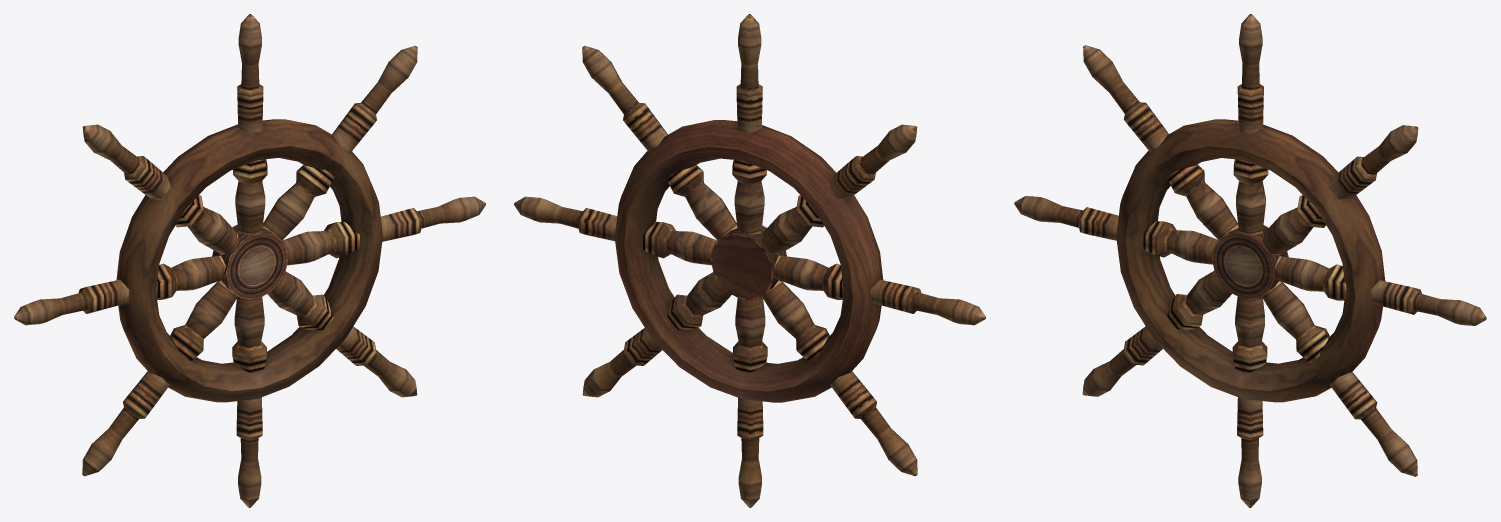
The model's file is RotaryTable.FBX.
3 renders of one model, left to right at view 1: azimuth 30°, elevation 25°; view 2: azimuth 150°, elevation 25°; view 3: azimuth 330°, elevation 25°, orthographic.
Visible parts, largest first — view 1: RotaryTable; view 2: RotaryTable; view 3: RotaryTable.
Part boxes in pixels (box(x1,y1,x2,y2)): RotaryTable: box(14, 14, 485, 507); RotaryTable: box(514, 14, 985, 507); RotaryTable: box(1014, 14, 1486, 507).
Bounding box in the file's own units: 79.52 × 6.72 × 79.52.
